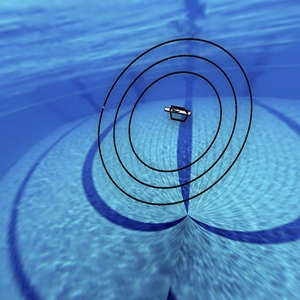circle: (96, 28, 257, 207)
submarine: (158, 99, 196, 139)
